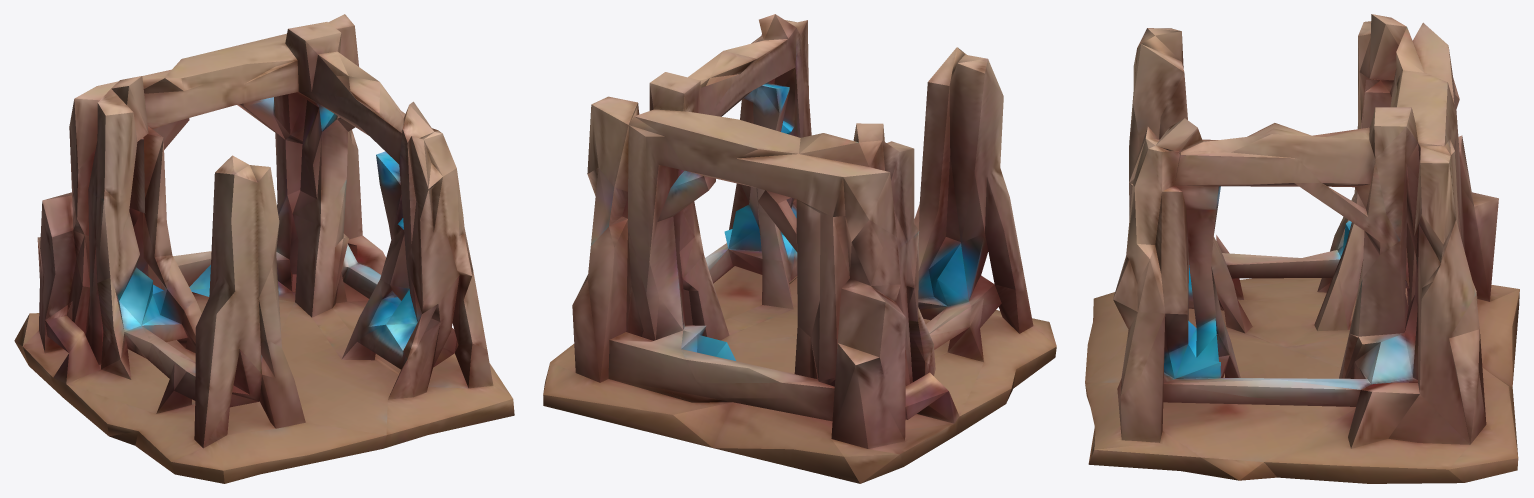
File: m2MineScaffold.glb
3 renders of one model, left to right at view 1: azimuth 30°, elevation 25°; view 2: azimuth 150°, elevation 25°; view 3: azimuth 270°, elevation 25°, orthographic. The views are drawn at different scales.
Visible parts, largest first — view 1: model; view 2: model; view 3: model.
Boxes of the visible parts, x1,y1,x2,y2 form: model: (14, 14, 514, 483); model: (543, 14, 1056, 483); model: (1085, 14, 1519, 483).
Bounding box in the file's own units: 1.9 × 1.5 × 1.81.
1 material, 1 textured.
